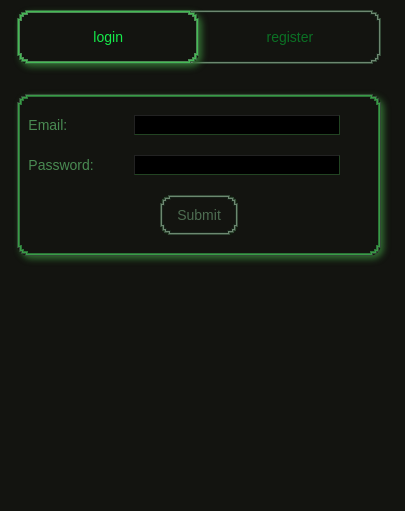
Test case: LoginForm — register mode › shows error message on passwordConfirm blur when mismatch
The width and height of the screenshot is (405, 511).
Click the button "login register". click: (108, 37)
box: [17,10,381,64]
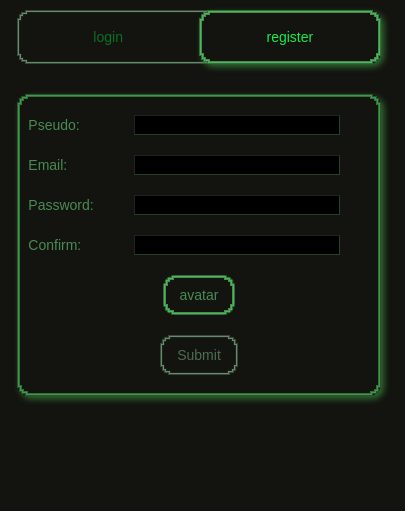
Type "Abcdef1!" into the password field labelled "Password:". click: (237, 205)
box: [134,195,340,215]
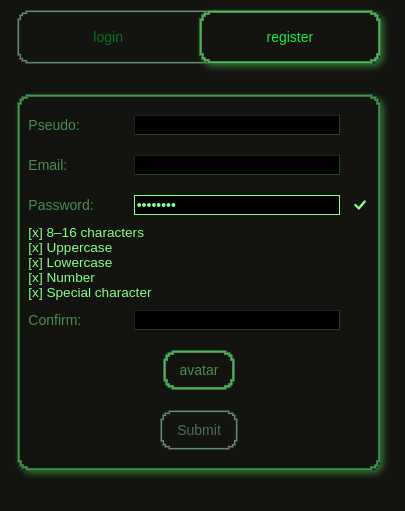
Type "different" into the password field labelled "Confirm:". click: (237, 320)
box: [134,310,340,330]
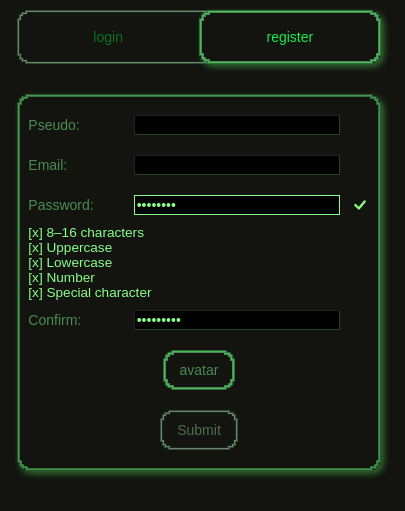
Leave the password field labelled "Confirm:", box [134,310,340,330]
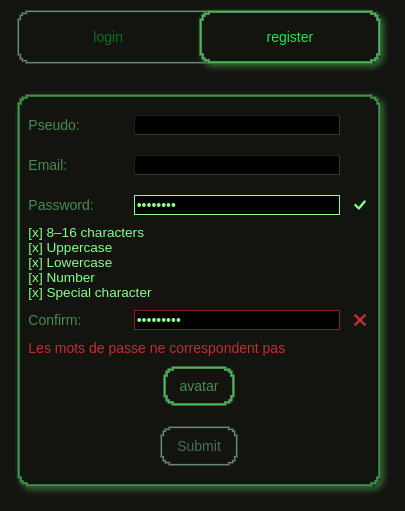
Expected: the text "Les mots de passe ne correspondent pas" is shown, [28,340,285,356]
